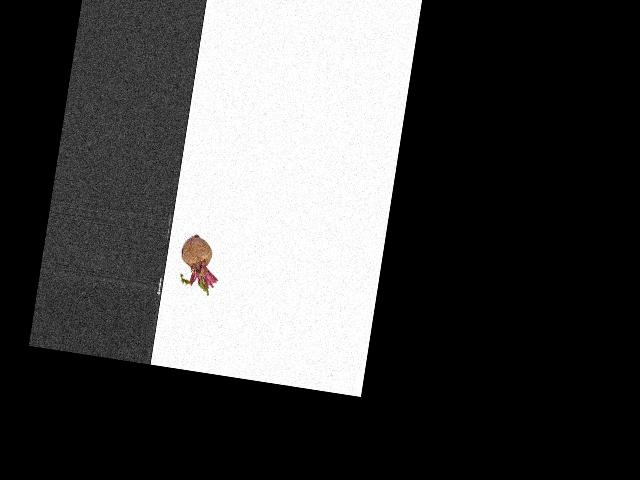beet: (175, 232, 224, 296)
